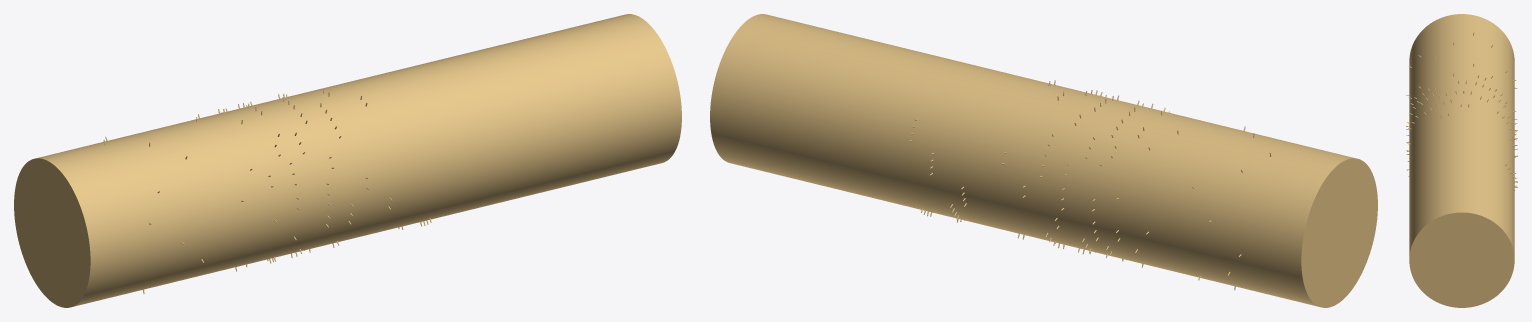
Rendered from Clockwork-garden.glb.
3 views of the same model, side by side, from view 1: azimuth 30°, elevation 25°; view 2: azimuth 150°, elevation 25°; view 3: azimuth 270°, elevation 25° (orthographic). The views are drawn at different scales.
Parts seen in each view (by area): view 1: cylinder_body; view 2: cylinder_body; view 3: cylinder_body.
Boxes of the visible parts, x1,y1,x2,y2 form: cylinder_body: [14, 14, 681, 307]; cylinder_body: [710, 14, 1377, 307]; cylinder_body: [1409, 14, 1514, 307].
Bounding box in the file's own units: 0.214 × 0.051 × 0.051.
